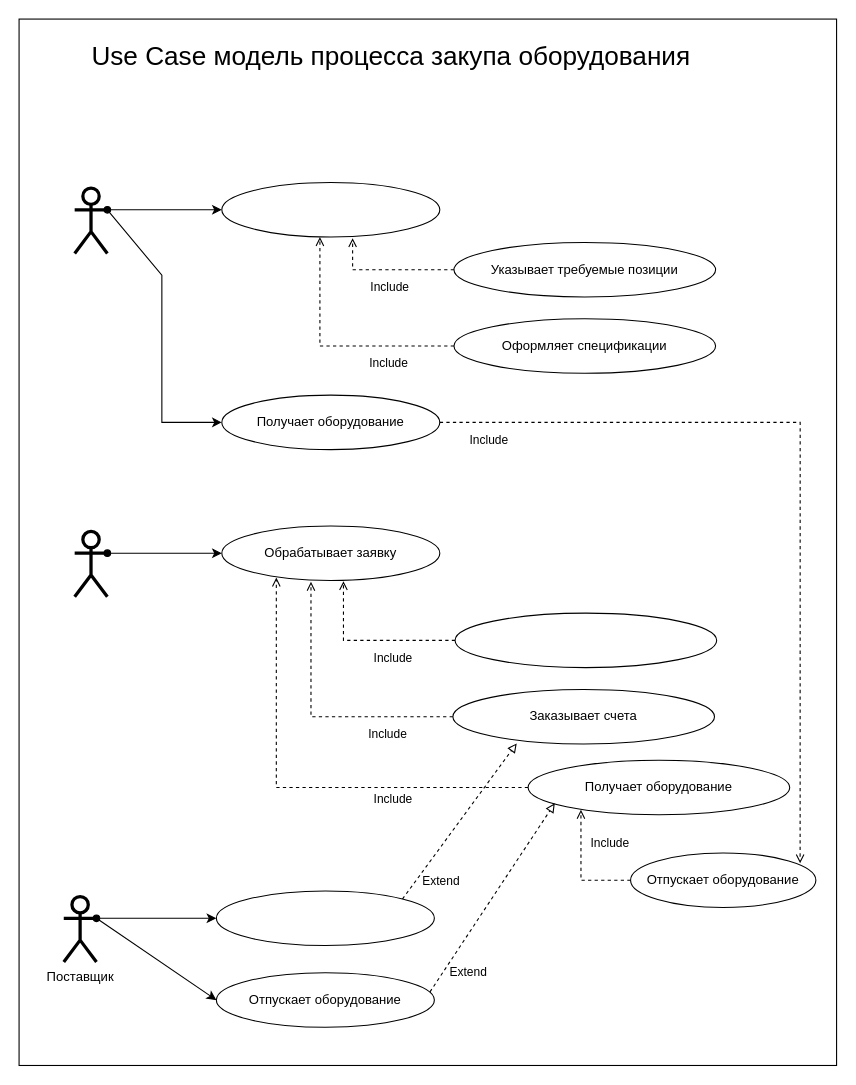
This 856x1085 diagram has some shape labels left out. Here are the shapes that lost their labels. From the top down, the centre of each, then its label:
At point 90,220: "Заказчик".
At point 330,209: "Формирует заявку на закуп".
At point 90,563: "Служба закупа".
At point 585,640: "Находит оборудование у поставщиков".
At point 324,918: "Выставляет счета".
